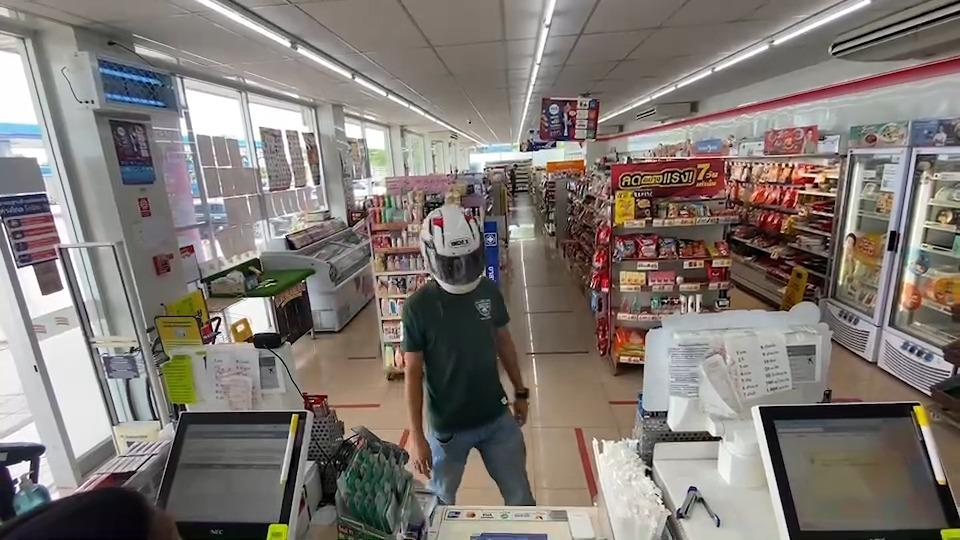criminal: (401, 202, 540, 509)
